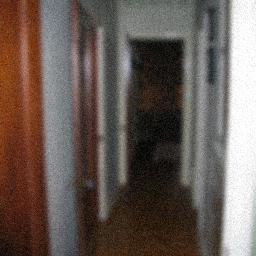Puerta: (73, 6, 97, 253), (126, 32, 136, 191)
